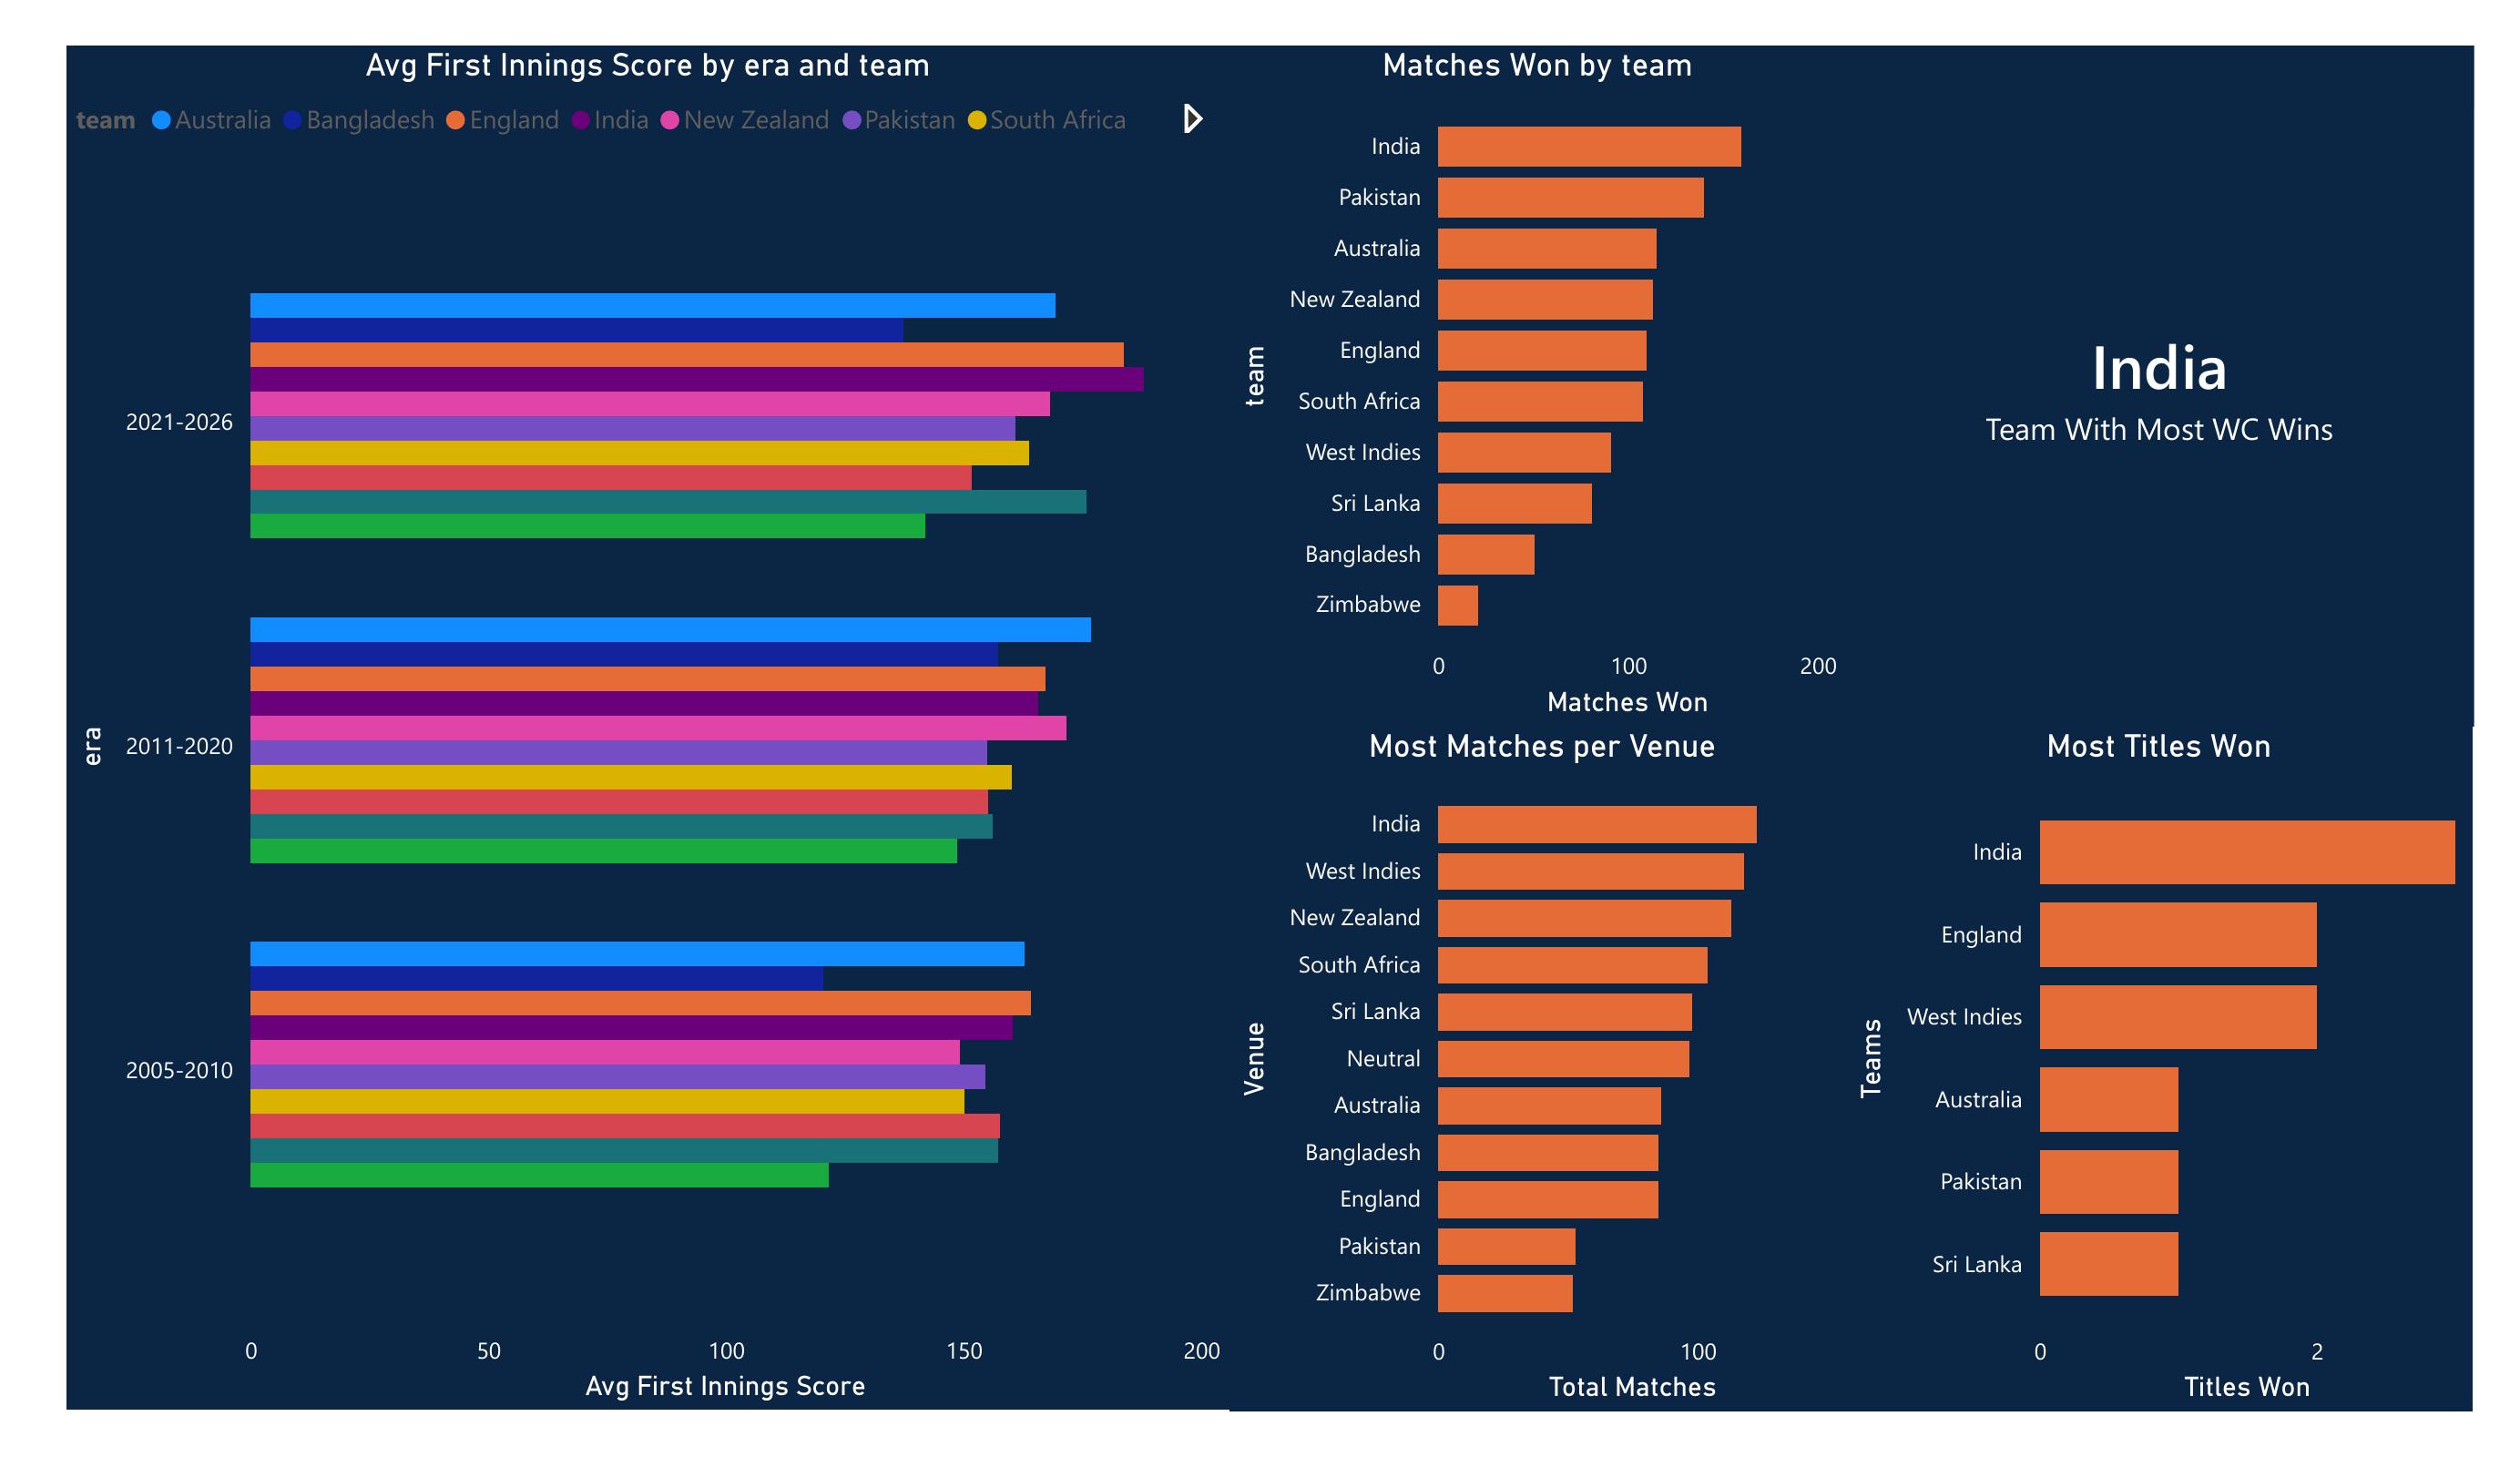

The dashboard page shown, as its layout file describes it:
{"tool":"powerbi","page":{"name":"Page 4","canvas":[1280,720],"ordinal":3},"visuals":[{"type":"clusteredBarChart","fields":{"Category":["matches.era"],"Series":["team_matches.team"],"Y":["team_matches.Avg First Innings Score"]},"box":[10.6,0,613.3,719.2],"z":0},{"type":"clusteredBarChart","title":"Most Matches per Venue","fields":{"Category":["matches.venue_country"],"Y":["matches.Total Matches"]},"box":[623.6,359.1,330.7,360.9],"z":1000},{"type":"clusteredBarChart","fields":{"Category":["team_matches.team"],"Y":["team_matches.Matches Won"]},"box":[623.6,0,325,359.1],"z":2000},{"type":"clusteredBarChart","title":"Most Titles Won","fields":{"Category":["teams.Teams"],"Y":["wc_champions.Titles Won"]},"box":[948.7,359.1,330.7,360.9],"z":3000},{"type":"cardVisual","fields":{"Data":["team_matches.Team With Most WC Wins"]},"box":[949,0,331,359],"z":4000}]}

Visuals, with their boxes on the page's 1280x720 design canvas (x1, y1, x2, y2). These are canvas units, not pixel positions in the 2520x1457 screenshot, which may show the page scaled, cropped or inside an application window:
clusteredBarChart - matches.era x team_matches.team: detection(11, 0, 624, 719)
"Most Matches per Venue" clusteredBarChart: detection(624, 359, 954, 720)
clusteredBarChart - team_matches.team x team_matches.Matches Won: detection(624, 0, 949, 359)
"Most Titles Won" clusteredBarChart: detection(949, 359, 1279, 720)
cardVisual - team_matches.Team With Most WC Wins: detection(949, 0, 1280, 359)
